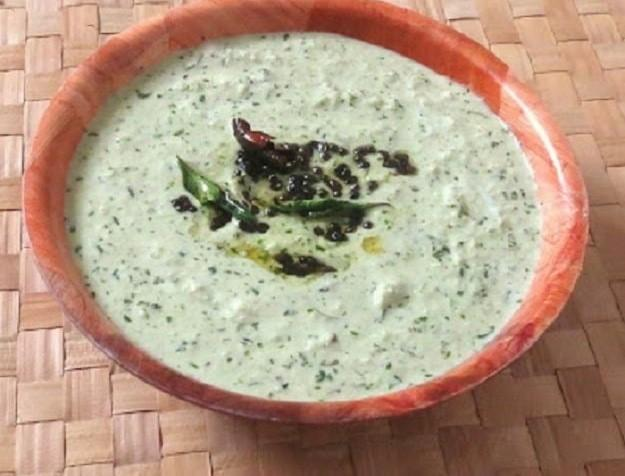CoconutChutney: (63, 30, 543, 402)
